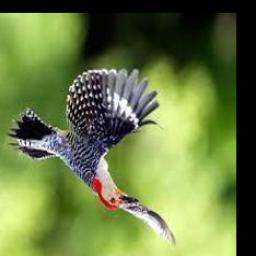Woodpecker: (9, 69, 176, 248)
